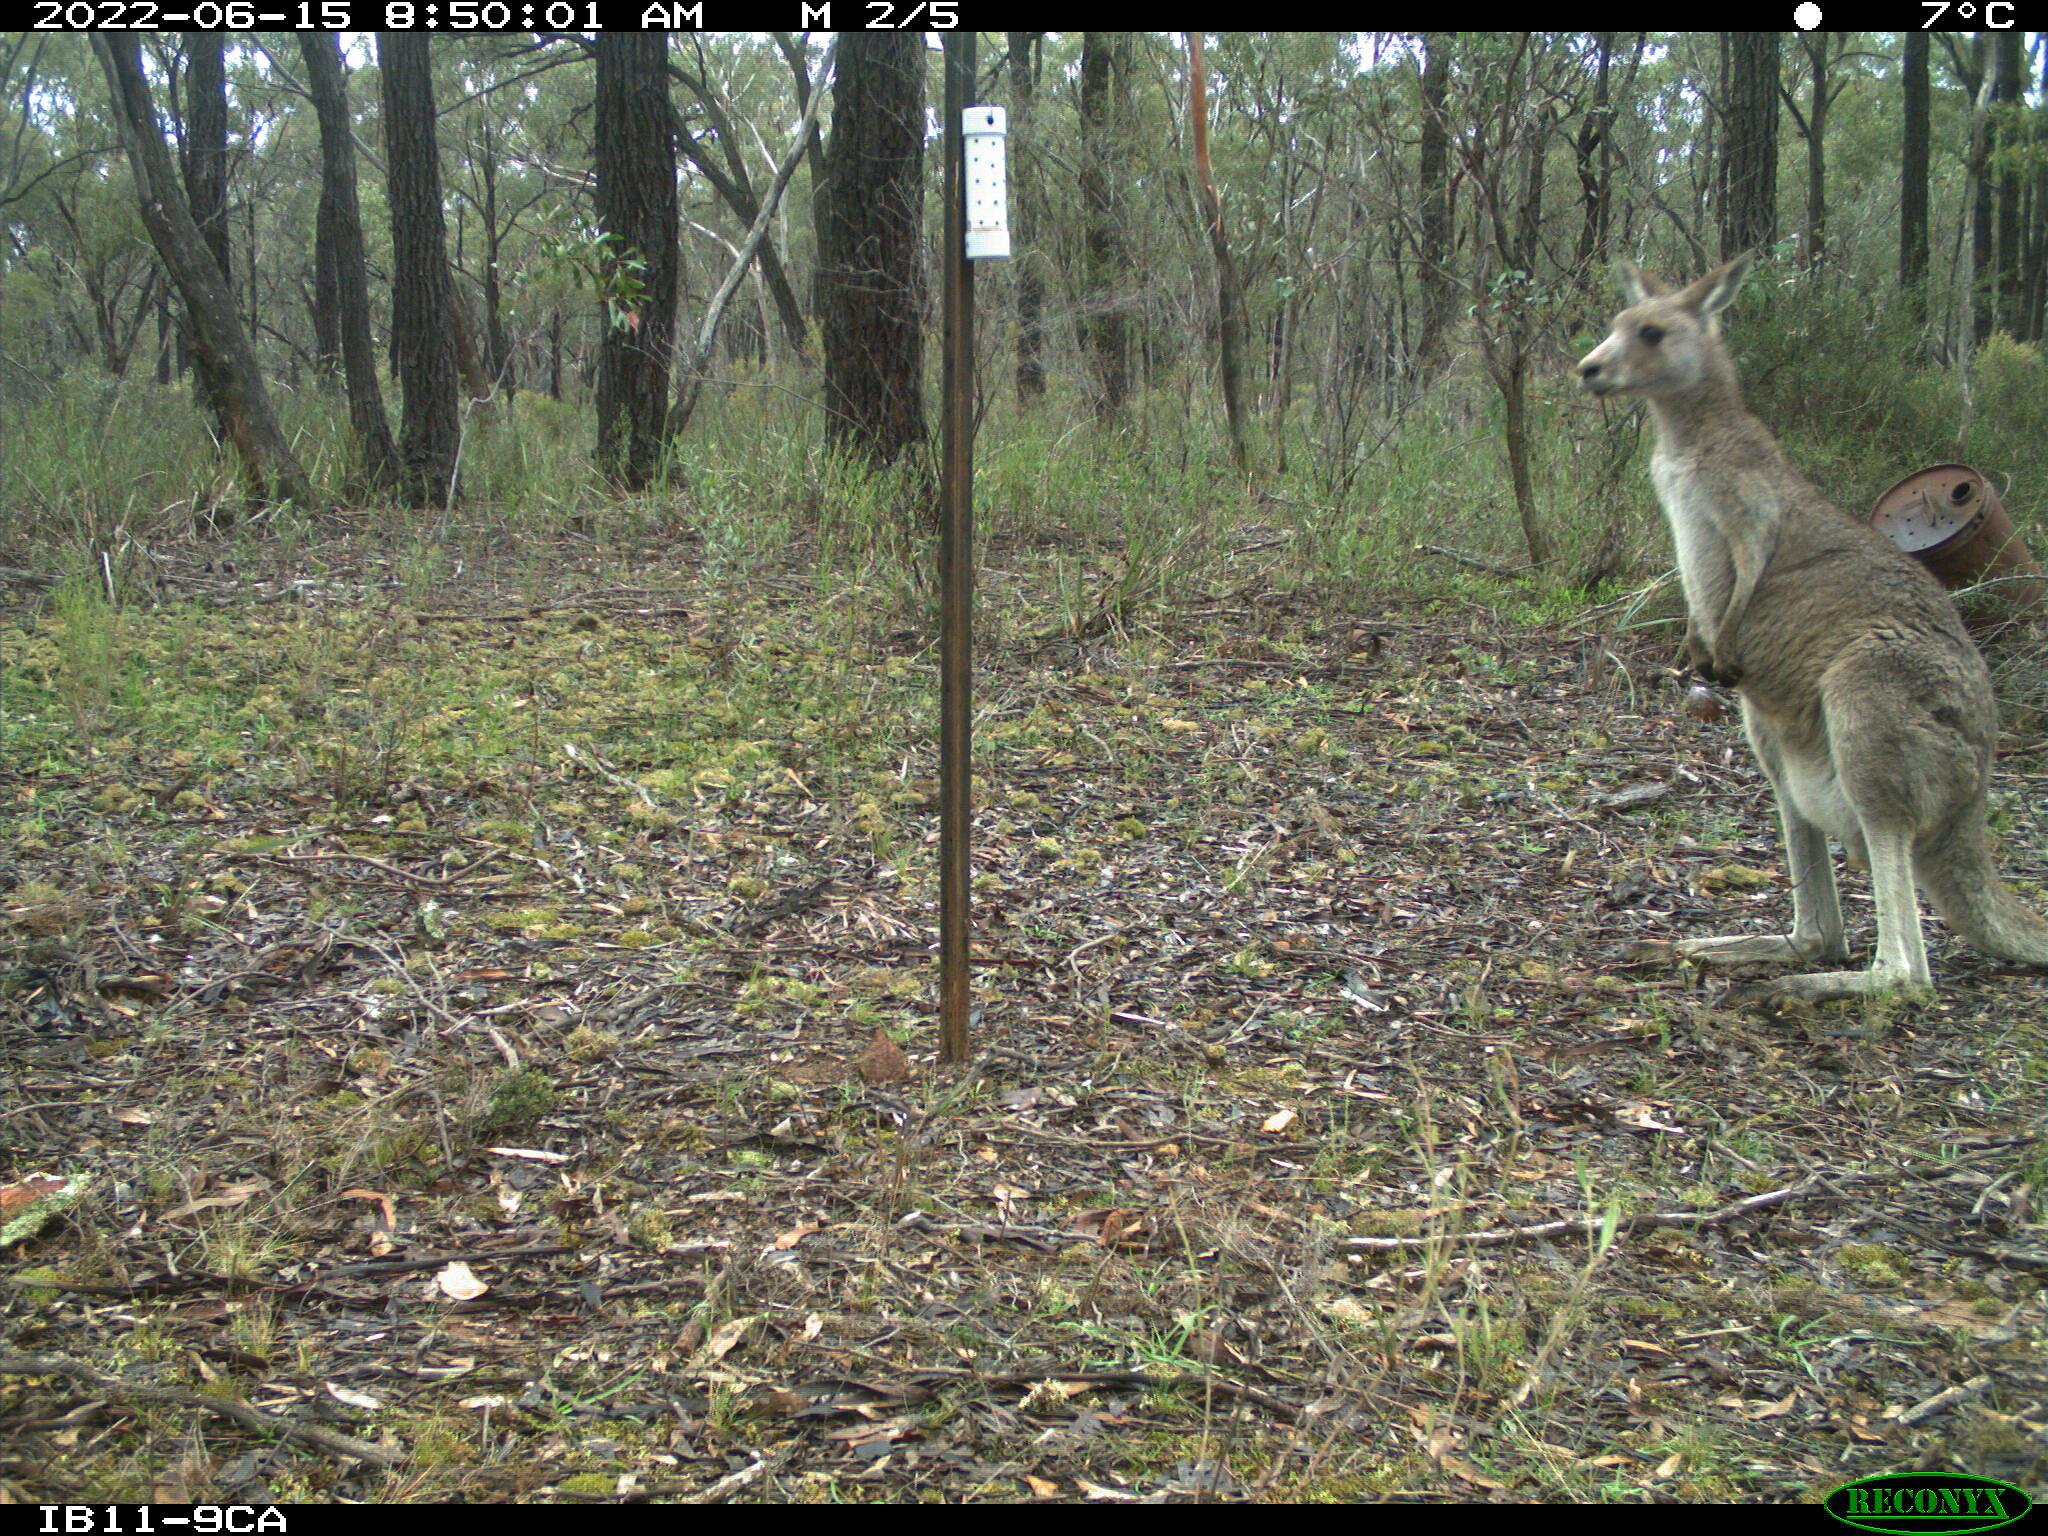Eastern grey kangaroo: (1584, 250, 2048, 1028)
